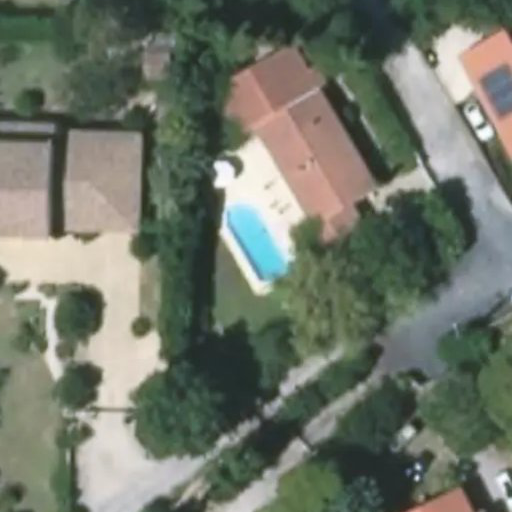pool: (218, 211, 288, 265)
